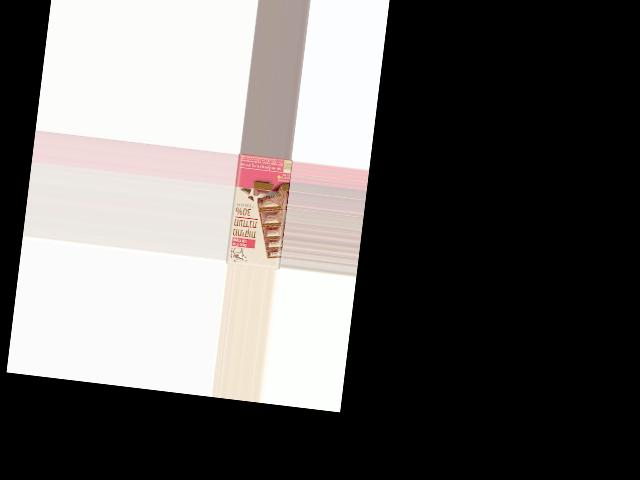chocolate: (225, 153, 292, 270)
